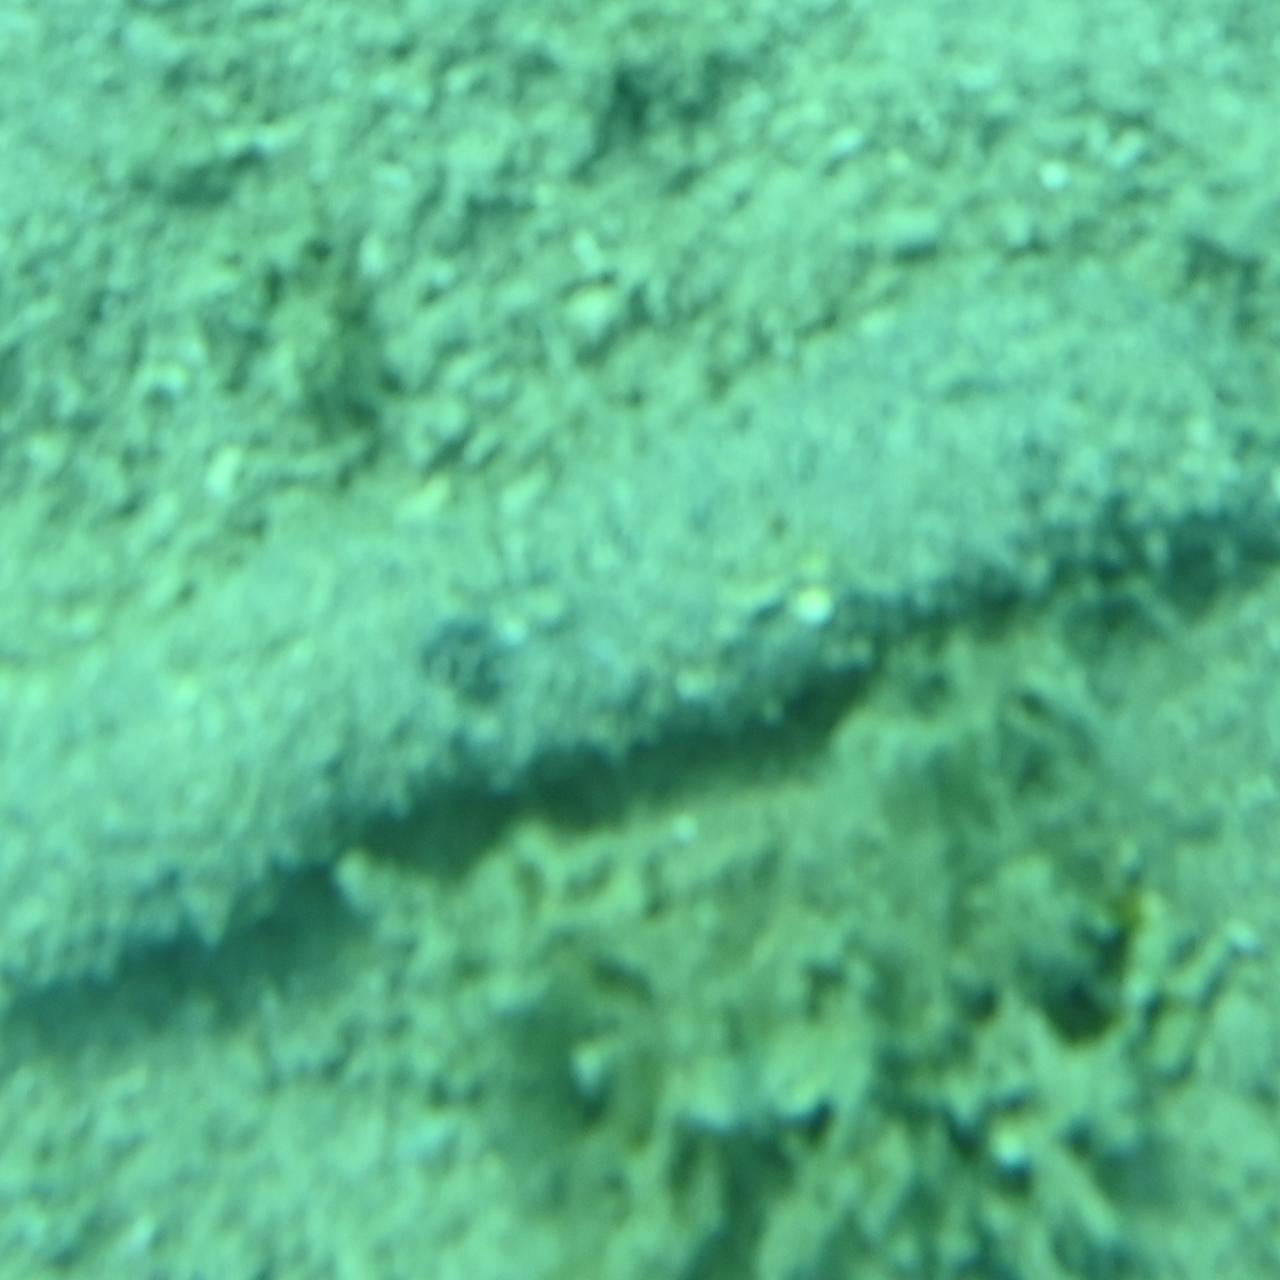Holothuria tubulosa: (0, 216, 1280, 1064)
